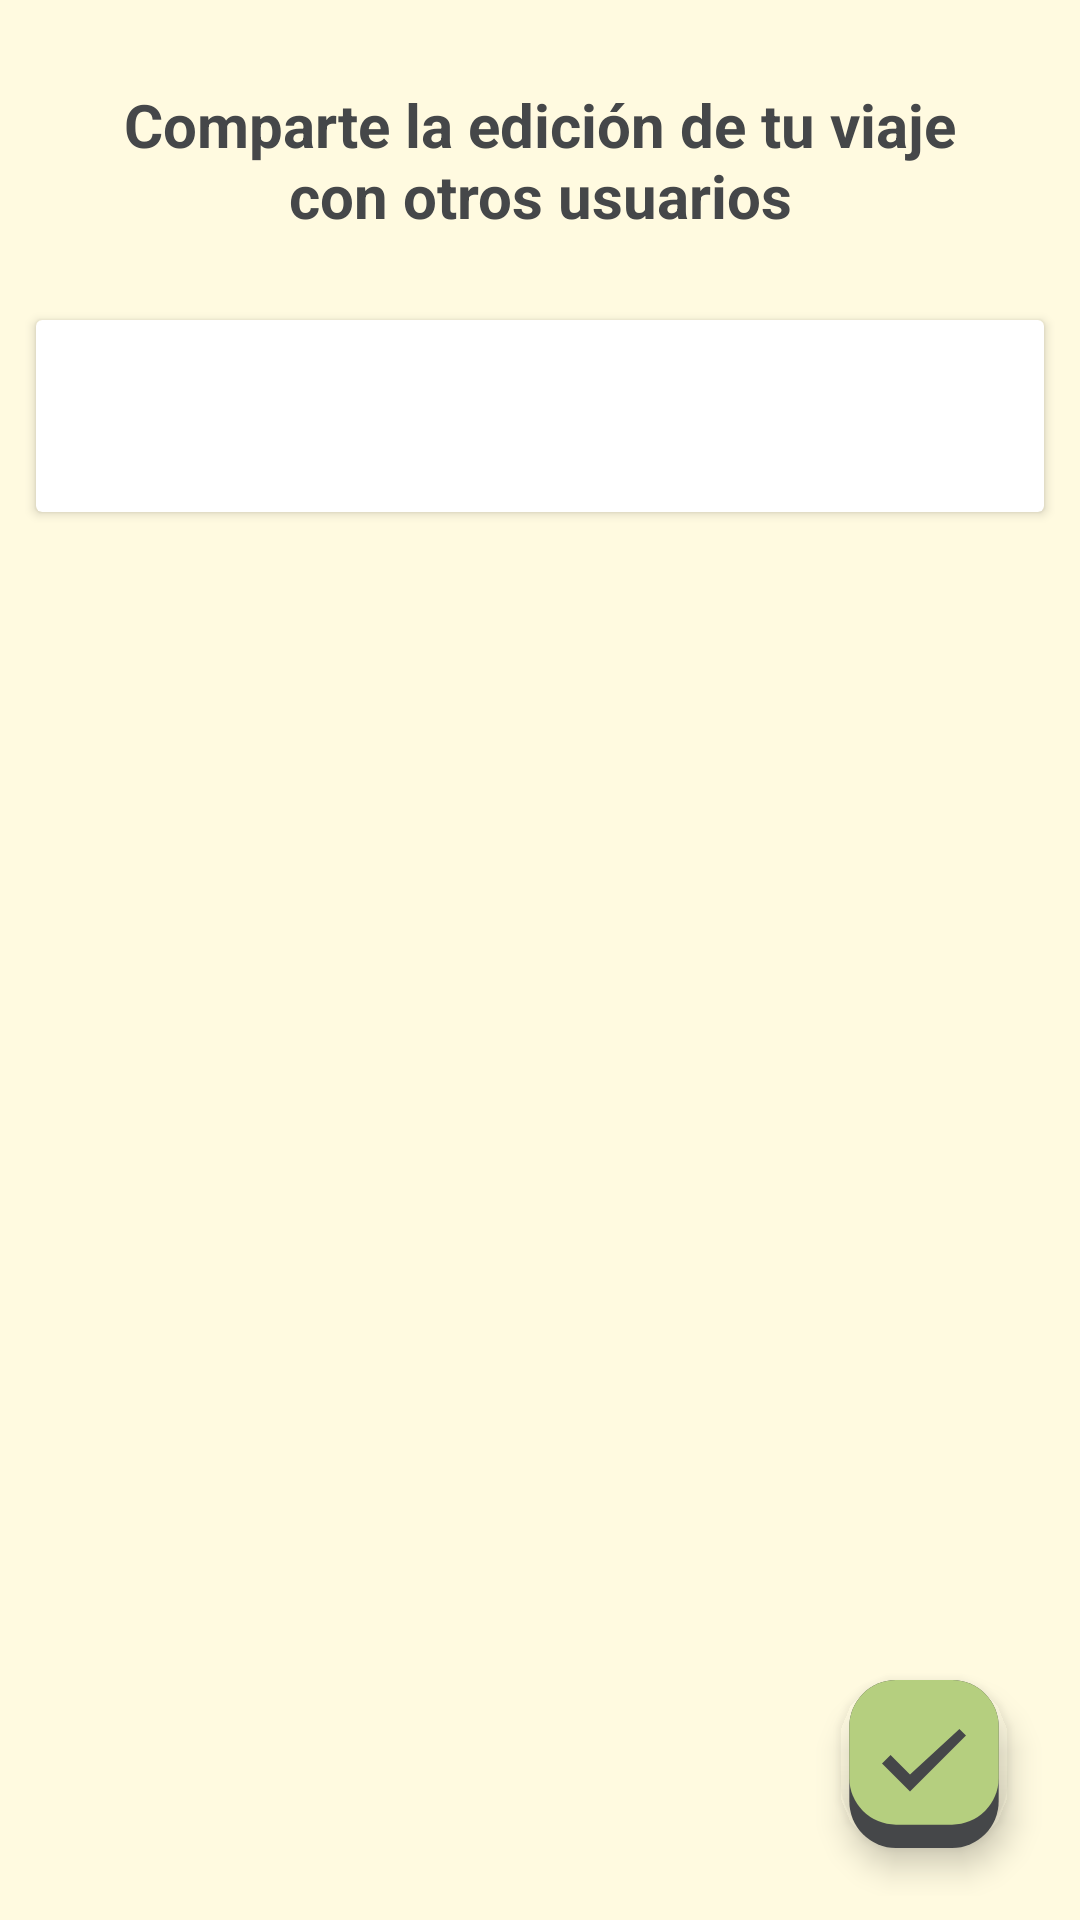

Icons on this 1080w x 1920h Android screen, each with the point to tap as (x=x, y=y):
done: (x=924, y=1764)
